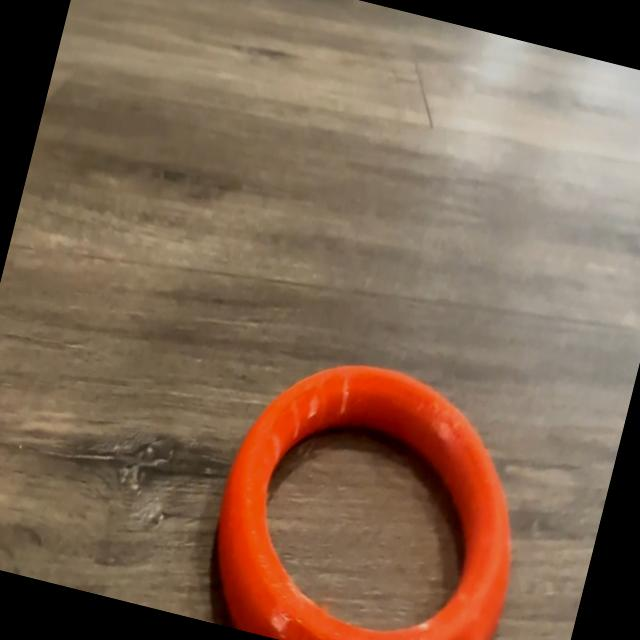note: (191, 335, 554, 640)
